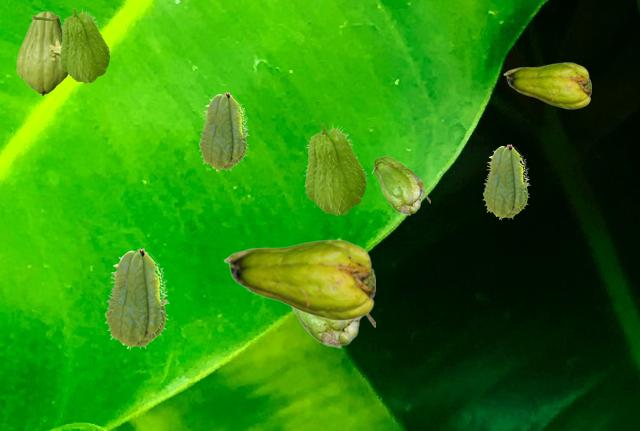sayote: (223, 239, 374, 320), (104, 248, 168, 349), (303, 122, 367, 214), (16, 11, 68, 95), (503, 62, 590, 108), (198, 92, 248, 171), (58, 7, 110, 82), (482, 144, 529, 219), (371, 156, 429, 214), (291, 308, 374, 347)
